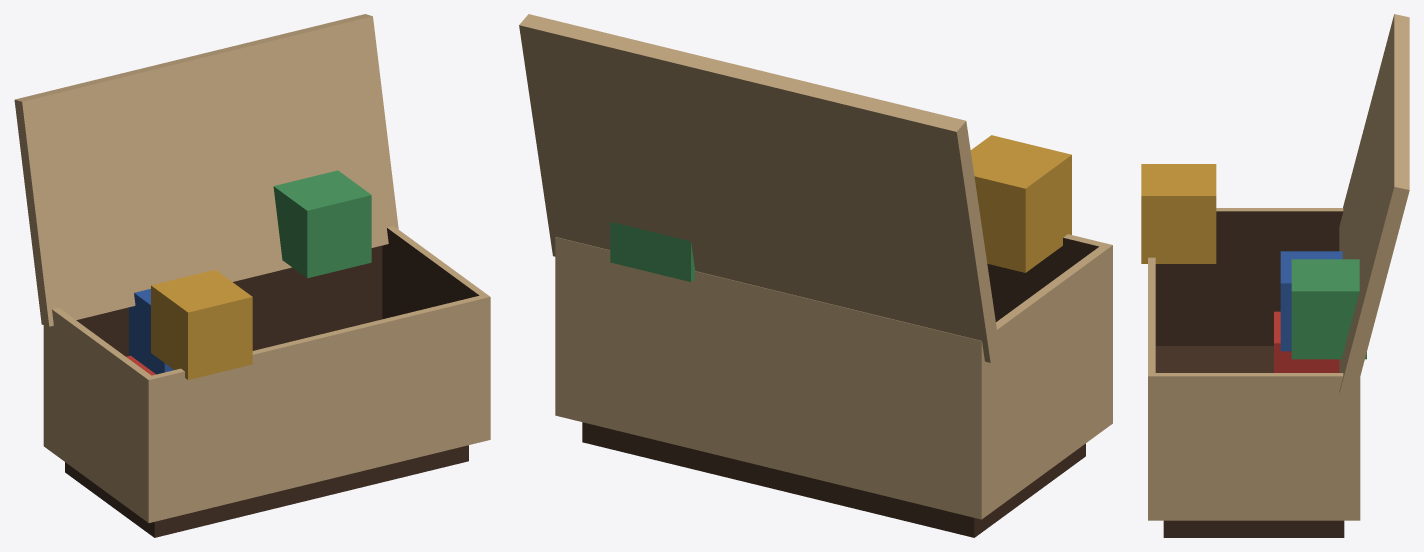
Rendered from FN_Chest_Toy.glb.
The picture shows the model from 3 angles, left to right: view 1: azimuth 30°, elevation 25°; view 2: azimuth 150°, elevation 25°; view 3: azimuth 270°, elevation 25°; orthographic projection. The views are drawn at different scales.
Visible parts, largest first — view 1: FN_Chest_Toy; view 2: FN_Chest_Toy; view 3: FN_Chest_Toy.
Boxes of the visible parts, x1,y1,x2,y2 form: FN_Chest_Toy: [14, 14, 490, 537]; FN_Chest_Toy: [519, 14, 1112, 537]; FN_Chest_Toy: [1141, 14, 1409, 537].
Size of the model in its own units: 0.924 by 0.8984 by 0.607.
1 material, 1 textured.
